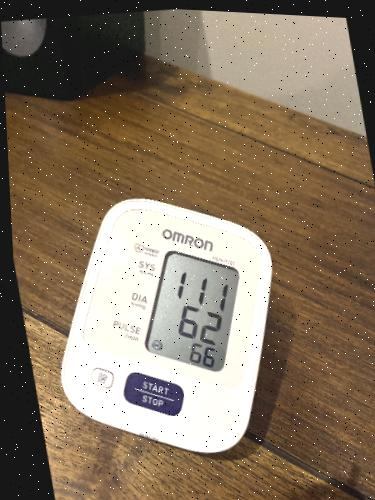bpm: (140, 248, 247, 374)
